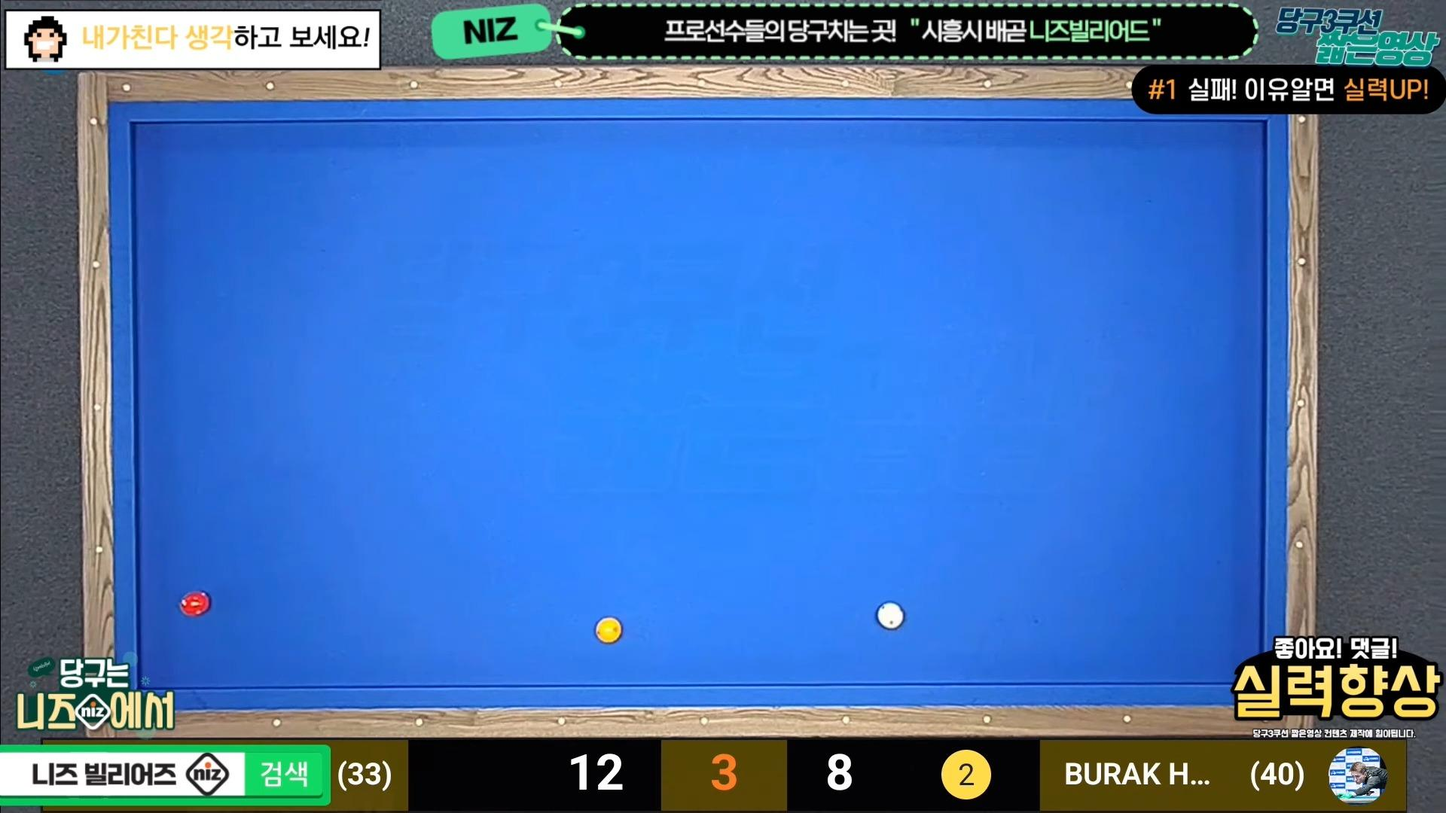-billiard-ball: (874, 601, 905, 630), (593, 616, 622, 644)
Red: (178, 591, 212, 616)
White: (876, 601, 906, 628)
Yellow: (596, 617, 629, 645)
